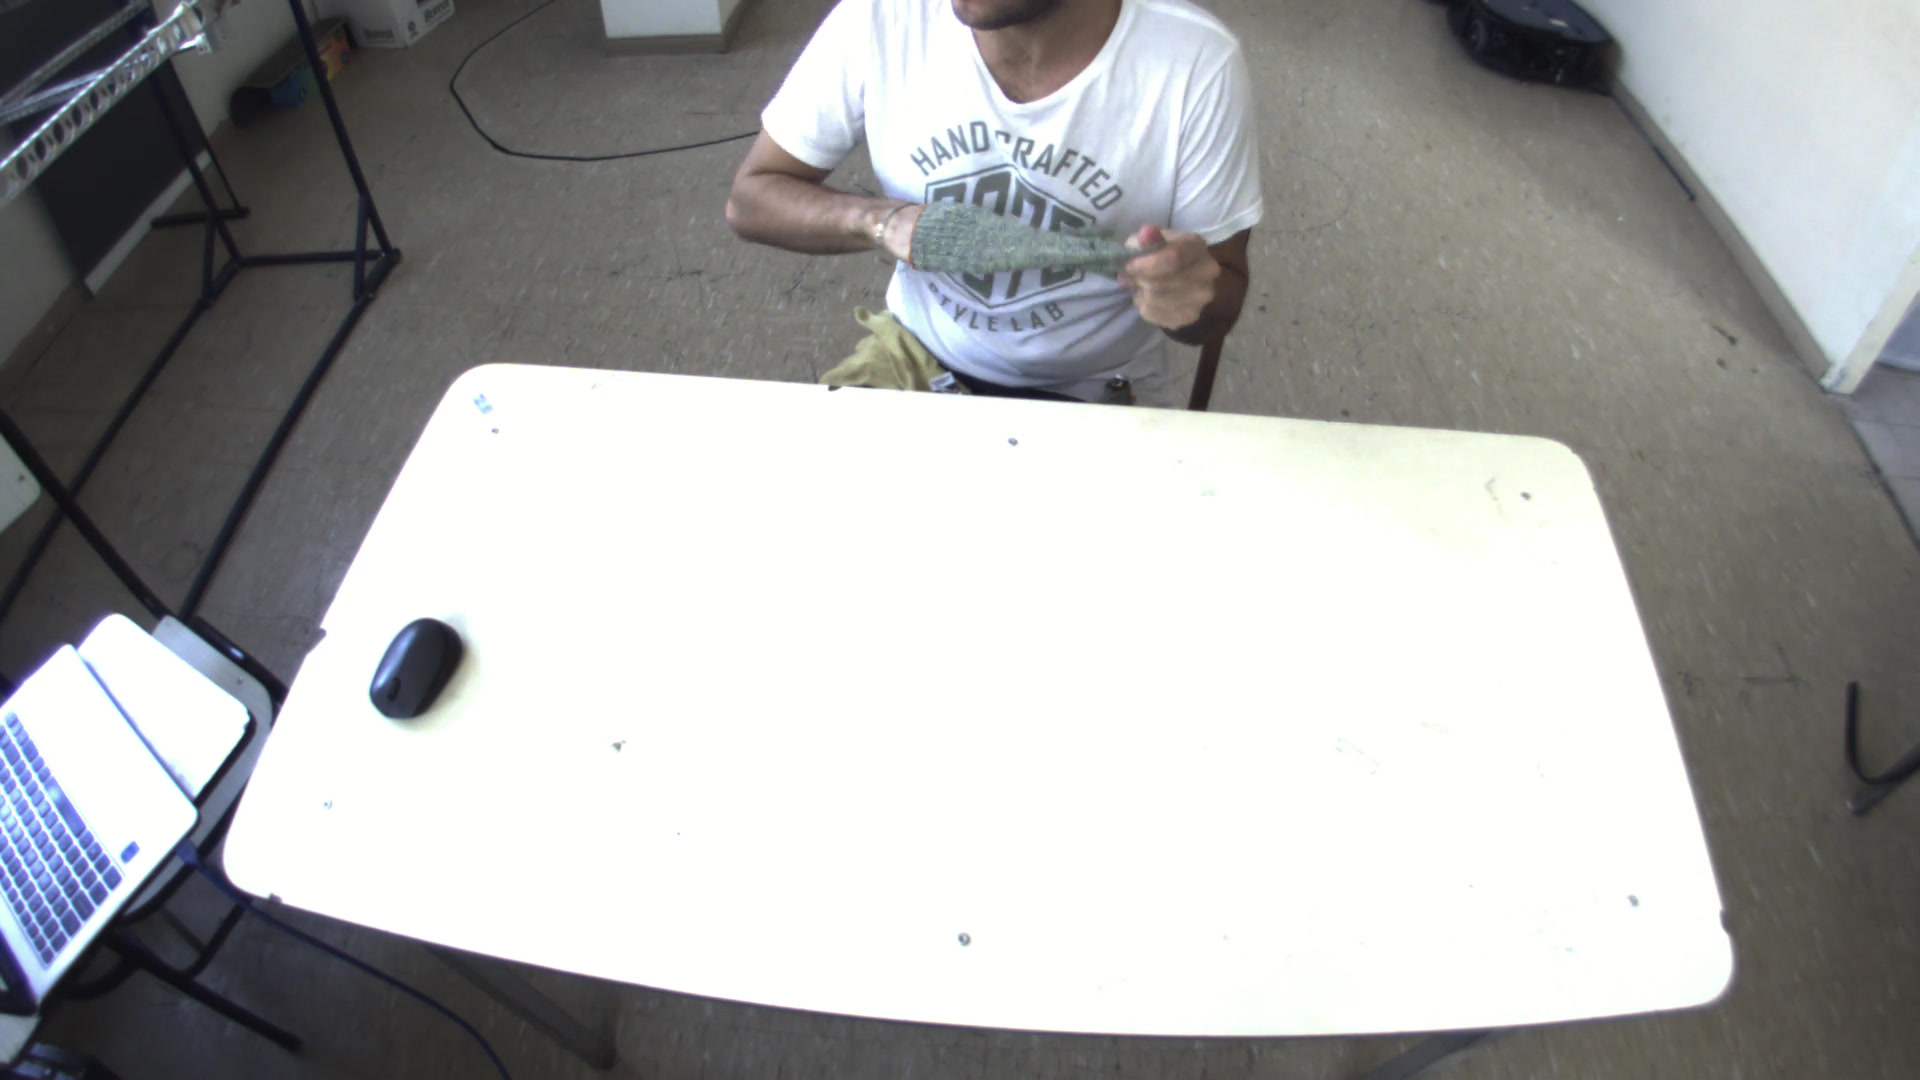hand: (885, 196, 1120, 287), (1108, 216, 1254, 338)
